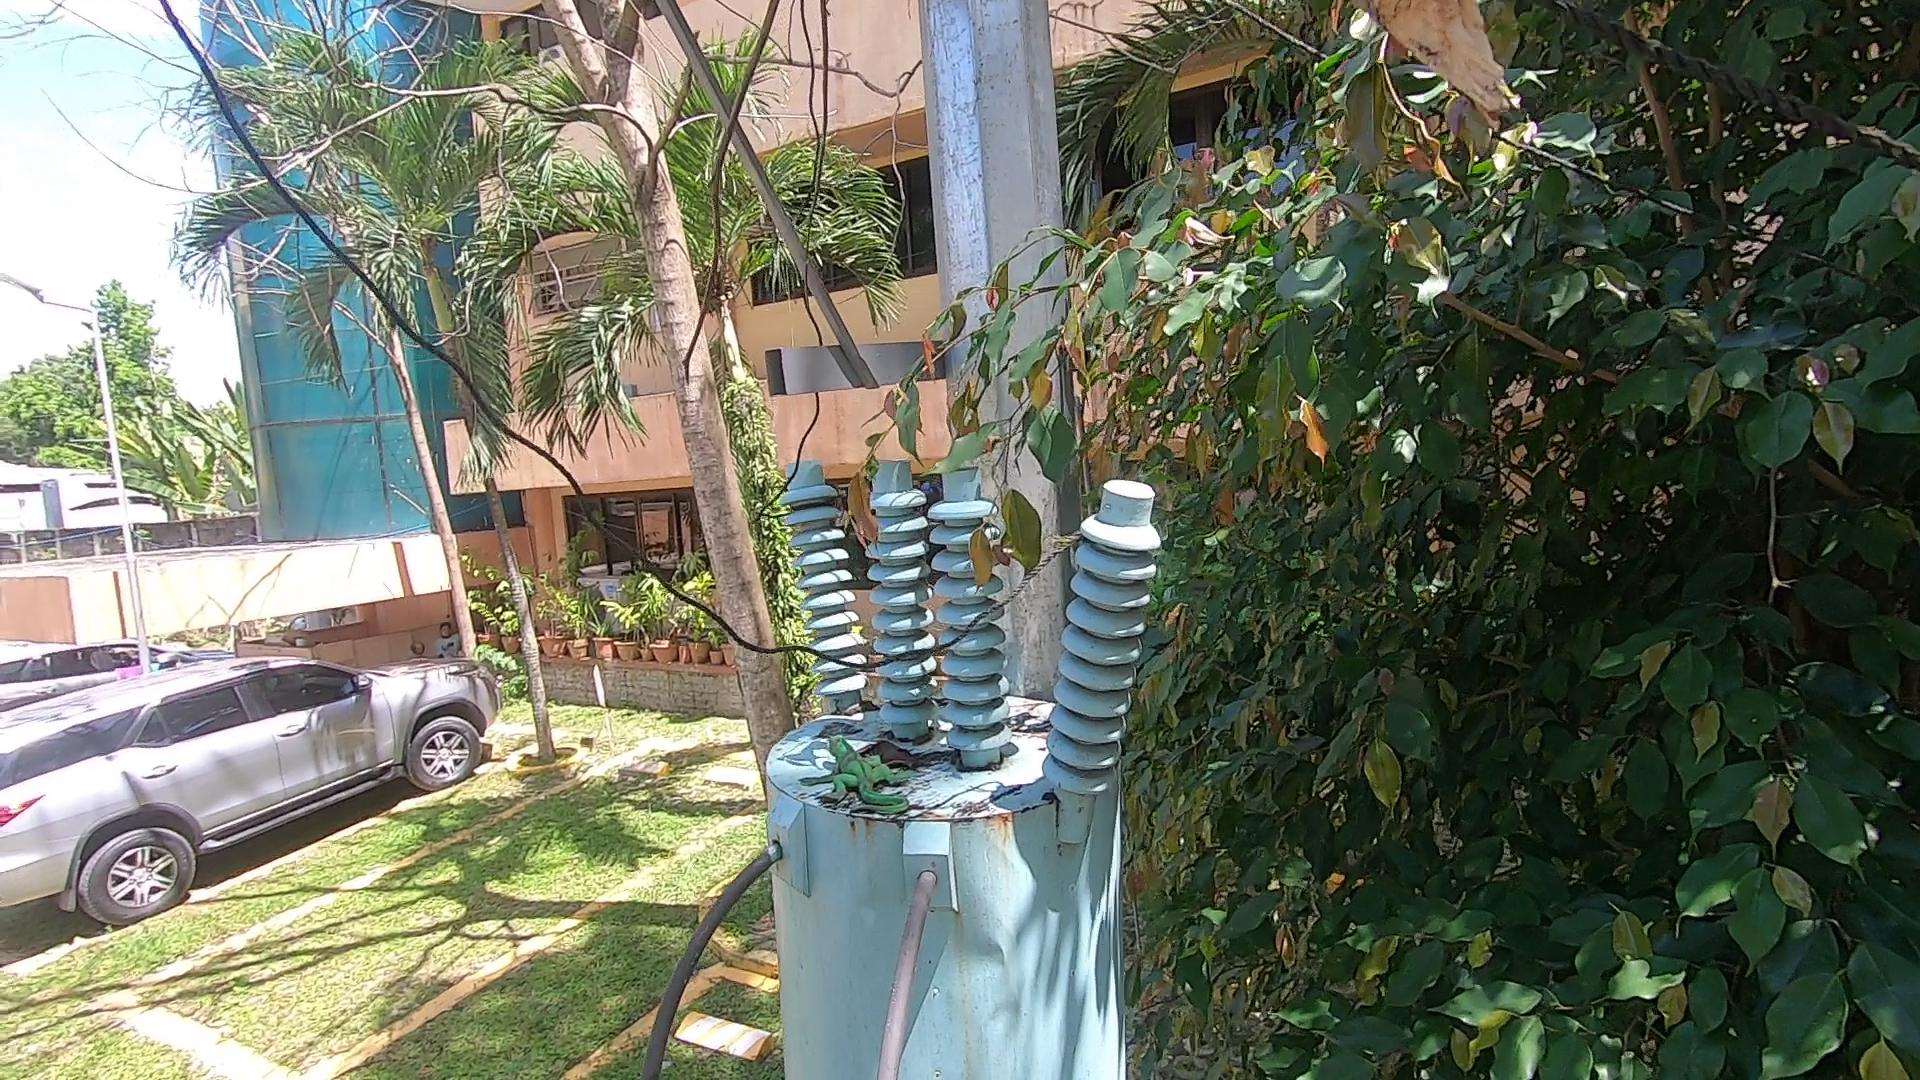branch with leaves: (829, 208, 1135, 591)
leaf: (856, 735, 924, 773), (1010, 702, 1047, 744), (835, 698, 884, 721)
